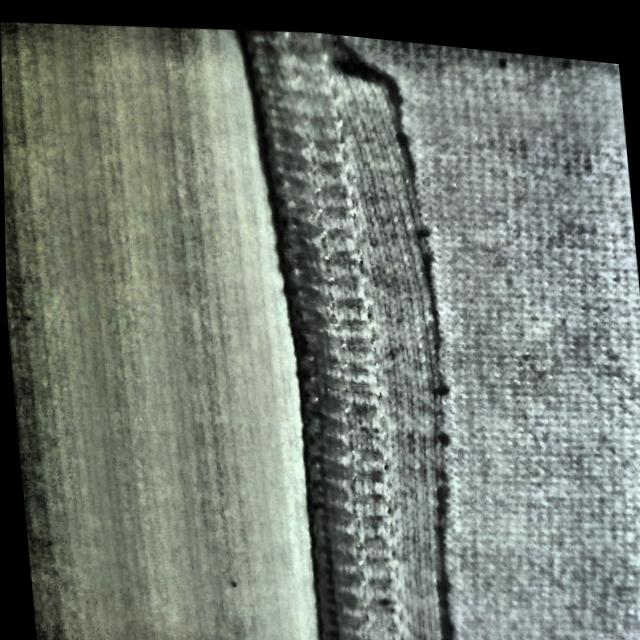seam: (254, 32, 510, 640)
